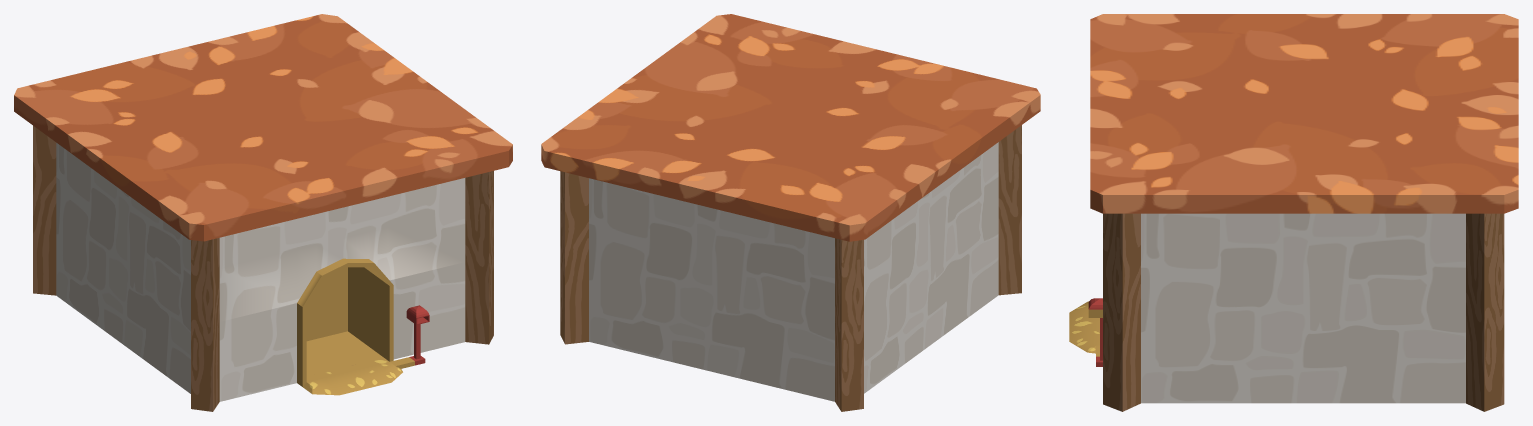
File: house1.FBX
3 views of the same model, side by side, from view 1: azimuth 30°, elevation 25°; view 2: azimuth 150°, elevation 25°; view 3: azimuth 270°, elevation 25° (orthographic). The views are drawn at different scales.
Visible parts, largest first — view 1: Box001; view 2: Box001; view 3: Box001.
Part boxes in pixels (x1,y1,x2,y2): Box001: (14, 14, 512, 411); Box001: (541, 14, 1040, 411); Box001: (1069, 14, 1518, 411).
Size of the model in its own units: 111 by 63.94 by 117.
